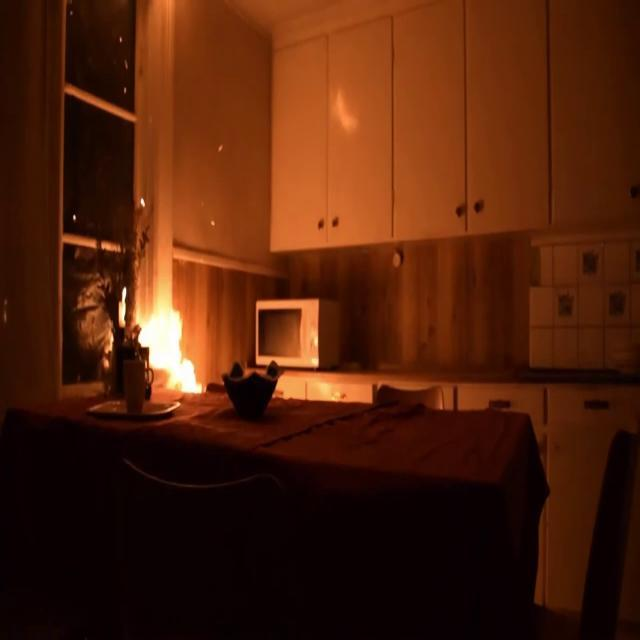Fire: (124, 260, 205, 398)
